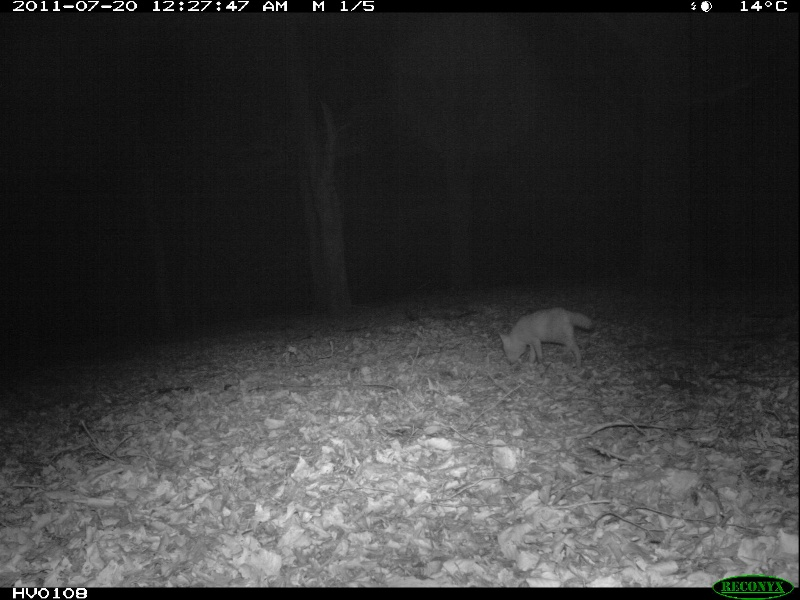fox: (497, 302, 597, 373)
